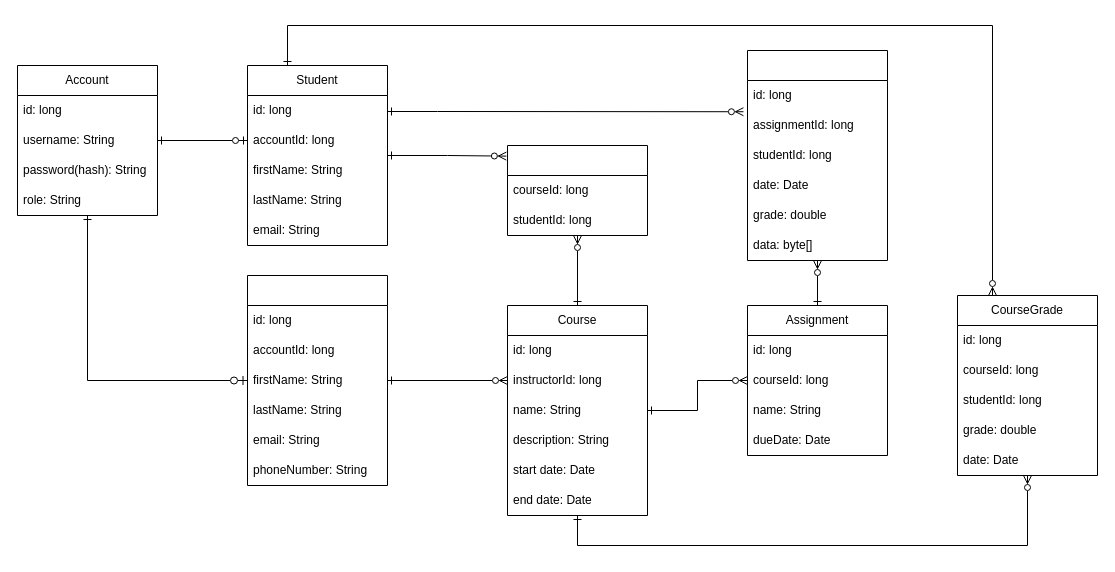
Some shapes in this 1115 by 572 pixel diagram are drawn without their labels. Here are the shapes that lost their labels. From the top down, the box of each, then its label:
(746, 50, 888, 260): Submission
(506, 144, 648, 236): CourseEnrollment
(246, 274, 388, 486): Instructor
